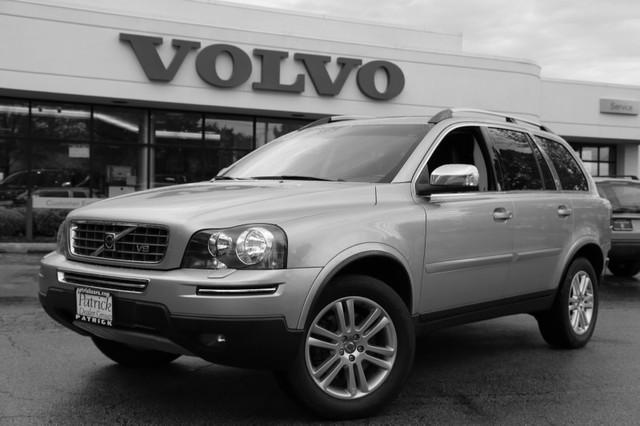car: (40, 109, 615, 414)
